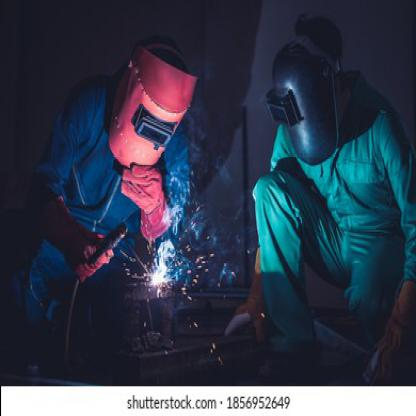with_gloves: (360, 276, 415, 388), (41, 195, 113, 280), (223, 244, 268, 343), (122, 164, 172, 240)
